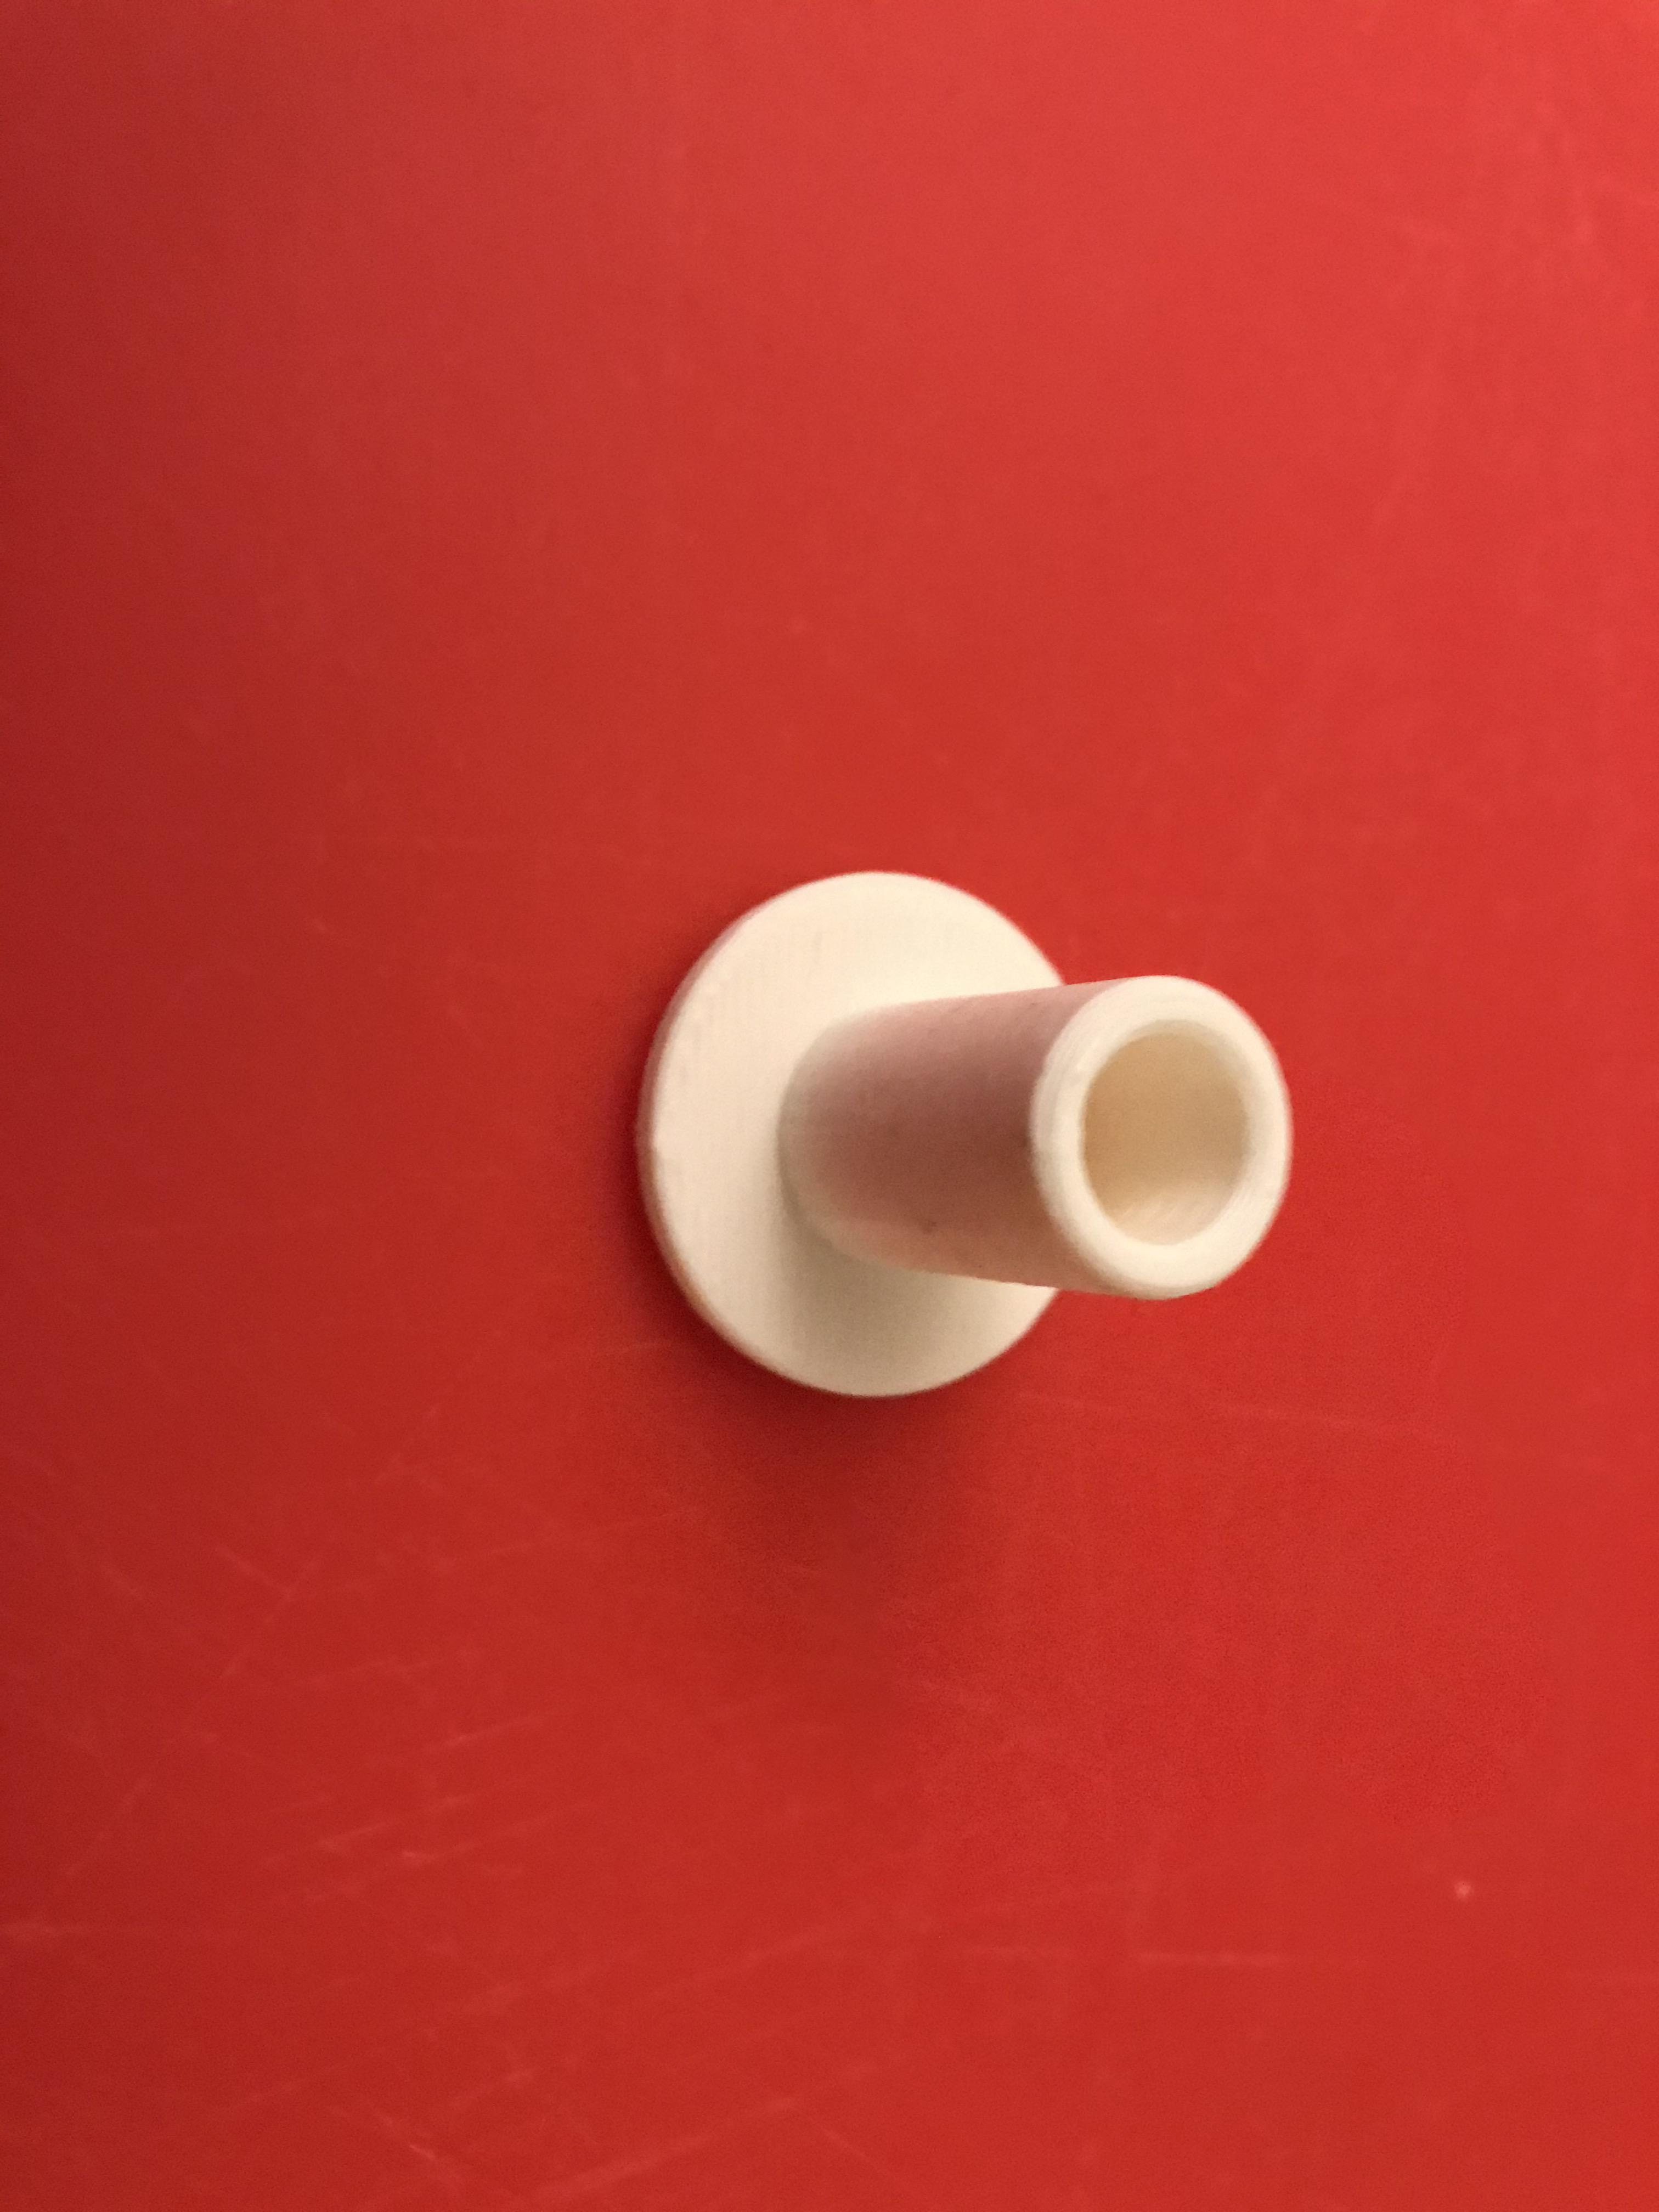White Cone: (612, 855, 1293, 1430)
